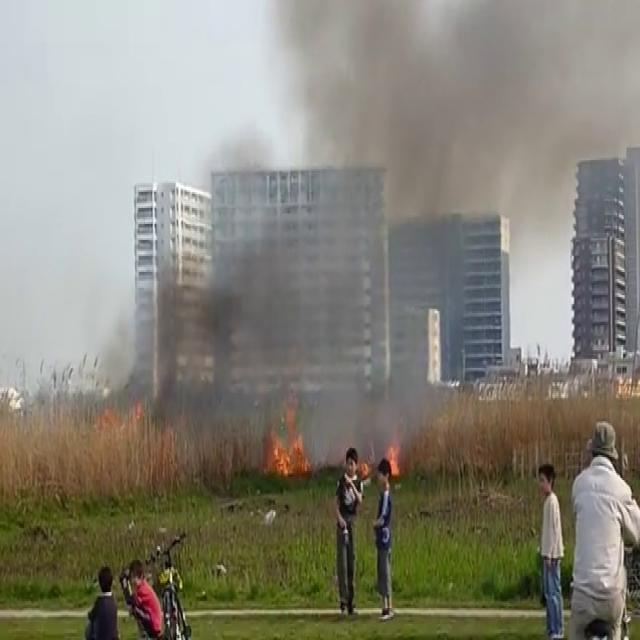Fire: (262, 396, 314, 486)
Smoke: (105, 0, 591, 443)
